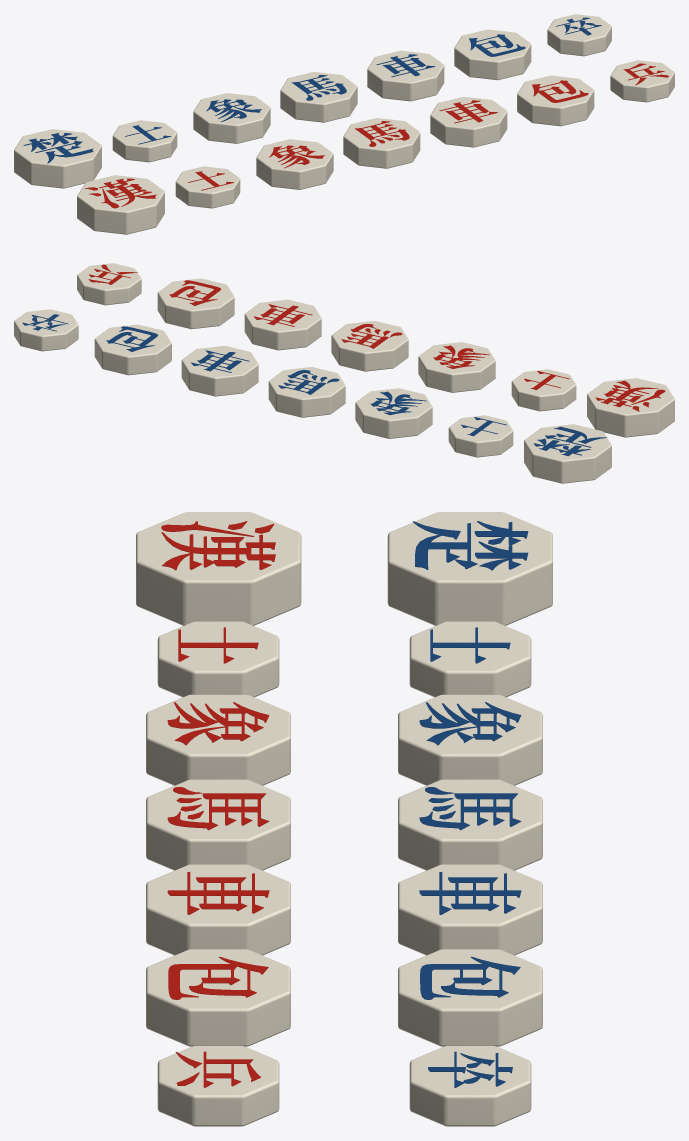
Rendered from collection.glb.
3 renders of one model, top to bottom at view 1: azimuth 30°, elevation 25°; view 2: azimuth 150°, elevation 25°; view 3: azimuth 270°, elevation 25°, orthographic. The views are drawn at different scales.
Visible parts, largest first — view 1: Octagonal rank tile, Octagonal rank tile.007, Octagonal rank tile.004, Octagonal rank tile.011, Octagonal rank tile.003, Octagonal rank tile.010, Octagonal rank tile.002, Octagonal rank tile.009, Octagonal rank tile.012, Octagonal rank tile.005, Octagonal rank tile.001, Octagonal rank tile.008 (+12 smaller); view 2: Octagonal rank tile.007, Octagonal rank tile, Octagonal rank tile.004, Octagonal rank tile.011, Octagonal rank tile.002, Octagonal rank tile.009, Octagonal rank tile.003, Octagonal rank tile.010, Octagonal rank tile.005, Octagonal rank tile.012, Octagonal rank tile.008, Octagonal rank tile.001 (+12 smaller); view 3: Octagonal rank tile, Octagonal rank tile.007, Octagonal rank tile.005, Octagonal rank tile.012, Octagonal rank tile.011, Octagonal rank tile.004, Octagonal rank tile.010, Octagonal rank tile.003, Octagonal rank tile.002, Octagonal rank tile.009, Octagonal rank tile.013, Octagonal rank tile.006 (+14 smaller).
Boxes of the visible parts, x1,y1,x2,y2 form: Octagonal rank tile: (77, 175, 164, 234); Octagonal rank tile.007: (14, 129, 101, 188); Octagonal rank tile.004: (430, 97, 507, 147); Octagonal rank tile.011: (367, 50, 444, 101); Octagonal rank tile.003: (343, 118, 420, 168); Octagonal rank tile.010: (280, 72, 357, 122); Octagonal rank tile.002: (256, 139, 333, 189); Octagonal rank tile.009: (193, 93, 270, 143); Octagonal rank tile.012: (454, 29, 531, 80); Octagonal rank tile.005: (517, 75, 594, 126); Octagonal rank tile.001: (175, 166, 240, 208); Octagonal rank tile.008: (112, 120, 177, 162); Octagonal rank tile.007: (524, 424, 611, 483); Octagonal rank tile: (587, 378, 674, 437); Octagonal rank tile.004: (244, 299, 321, 350); Octagonal rank tile.011: (181, 346, 258, 396); Octagonal rank tile.002: (418, 342, 495, 392); Octagonal rank tile.009: (355, 388, 432, 438); Octagonal rank tile.003: (331, 321, 408, 371); Octagonal rank tile.010: (268, 367, 345, 417); Octagonal rank tile.005: (157, 278, 234, 329); Octagonal rank tile.012: (94, 324, 171, 375); Octagonal rank tile.008: (448, 415, 513, 457); Octagonal rank tile.001: (511, 369, 576, 411); Octagonal rank tile: (136, 512, 301, 625); Octagonal rank tile.007: (387, 512, 552, 625); Octagonal rank tile.005: (146, 949, 290, 1046); Octagonal rank tile.012: (398, 949, 542, 1046); Octagonal rank tile.011: (398, 864, 542, 955); Octagonal rank tile.004: (146, 864, 290, 955); Octagonal rank tile.010: (398, 779, 542, 870); Octagonal rank tile.003: (146, 779, 290, 870); Octagonal rank tile.002: (146, 694, 290, 785); Octagonal rank tile.009: (398, 694, 542, 785); Octagonal rank tile.013: (409, 1045, 531, 1126); Octagonal rank tile.006: (157, 1045, 279, 1126).
Size of the model in its own units: 0.3693 by 0.0143 by 0.1143.
